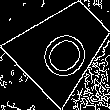O_NE: (30, 14, 96, 80)
